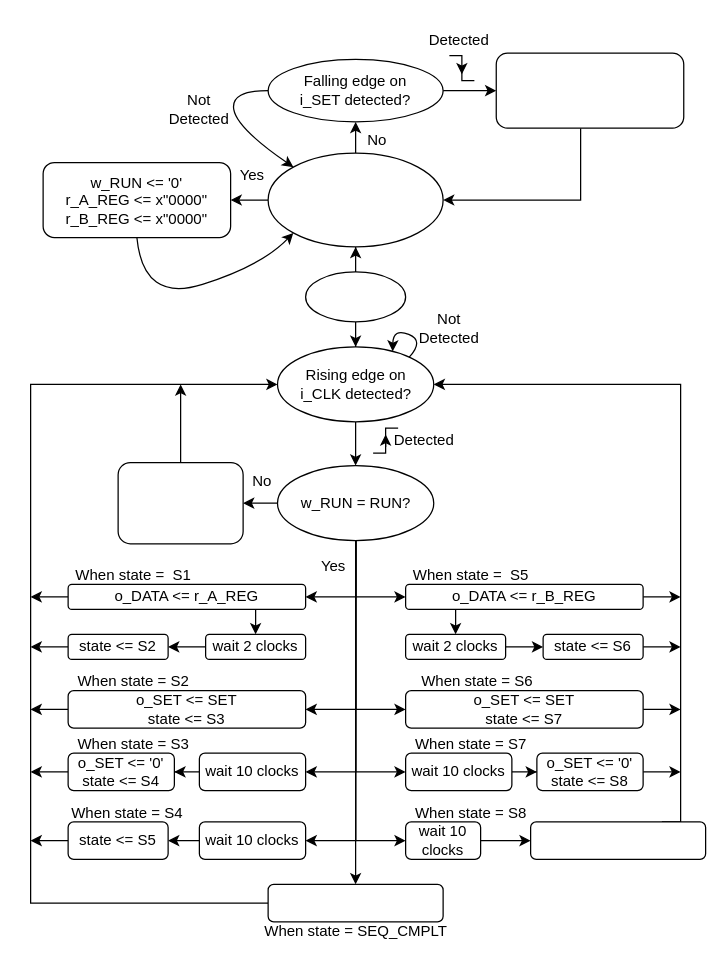
The diagram is 728 pixels wide and 961 high, and some of its shapes have lost their labels. Here are the shapes that lost their labels. From the top down, the centre of each, then its label:
At [589,90]: "w_RUN <= RUN r_A_REG <= i_DATA_A r_B_REG <= i_DATA_B".
At [355,199]: "w_CMPLT = CMPLT or i_RESET = '1'?".
At [355,296]: "Start".
At [180,502]: "w_CMPLT <= '0' v_Count := 0 o_SET <= '0' state <= S1".
At [617,840]: "state <= SEQ_CMPLT".
At [355,902]: "w_CMPLT <= CMPLT".
